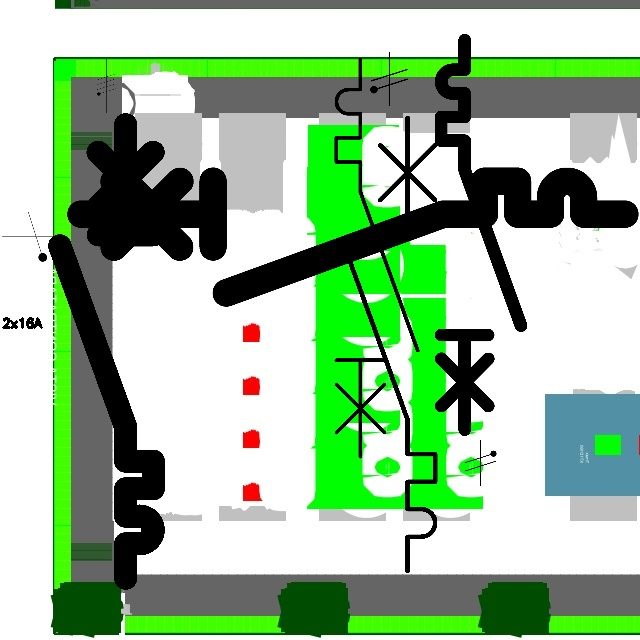interruptor_termomagnetico: (66, 167, 638, 307), (330, 106, 447, 583), (48, 112, 165, 589), (326, 49, 428, 466), (431, 30, 531, 439)
